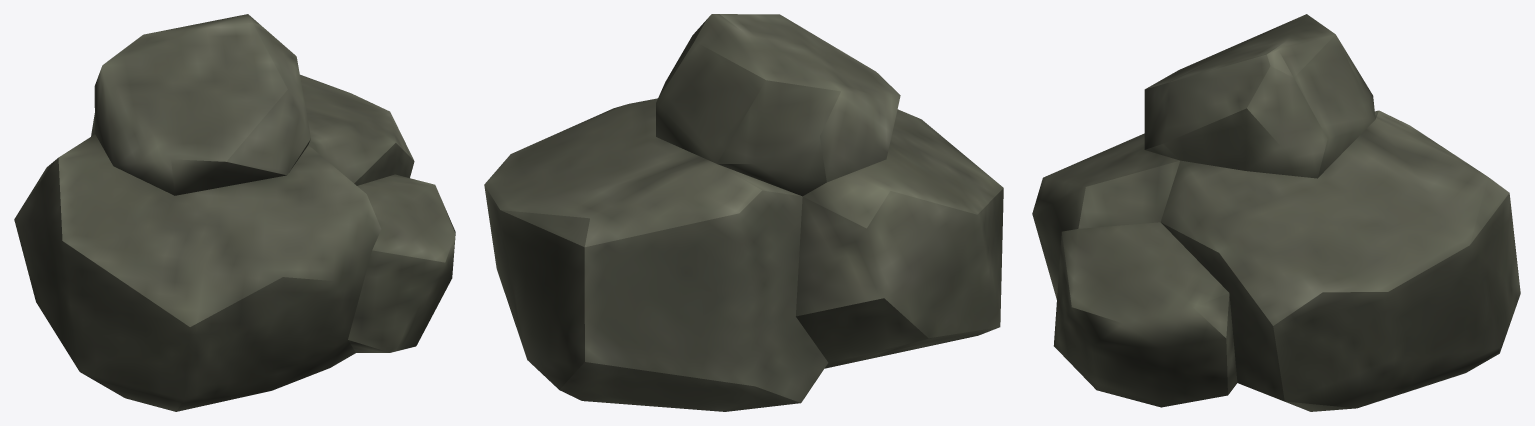
File: Rock_15.fbx
3 views of the same model, side by side, from view 1: azimuth 30°, elevation 25°; view 2: azimuth 150°, elevation 25°; view 3: azimuth 270°, elevation 25° (orthographic). The views are drawn at different scales.
Parts seen in each view (by area): view 1: Rock_15; view 2: Rock_15; view 3: Rock_15.
Boxes of the visible parts, x1,y1,x2,y2 form: Rock_15: (14, 14, 455, 411); Rock_15: (484, 14, 1003, 411); Rock_15: (1032, 14, 1520, 411).
Size of the model in its own units: 250 by 193 by 268.
Materials: 1 (1 with a texture image).
